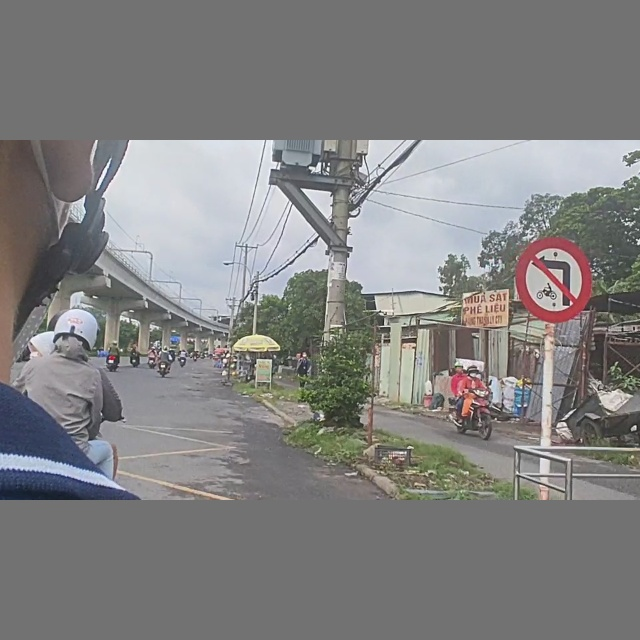P.123a: (515, 237, 591, 327)
